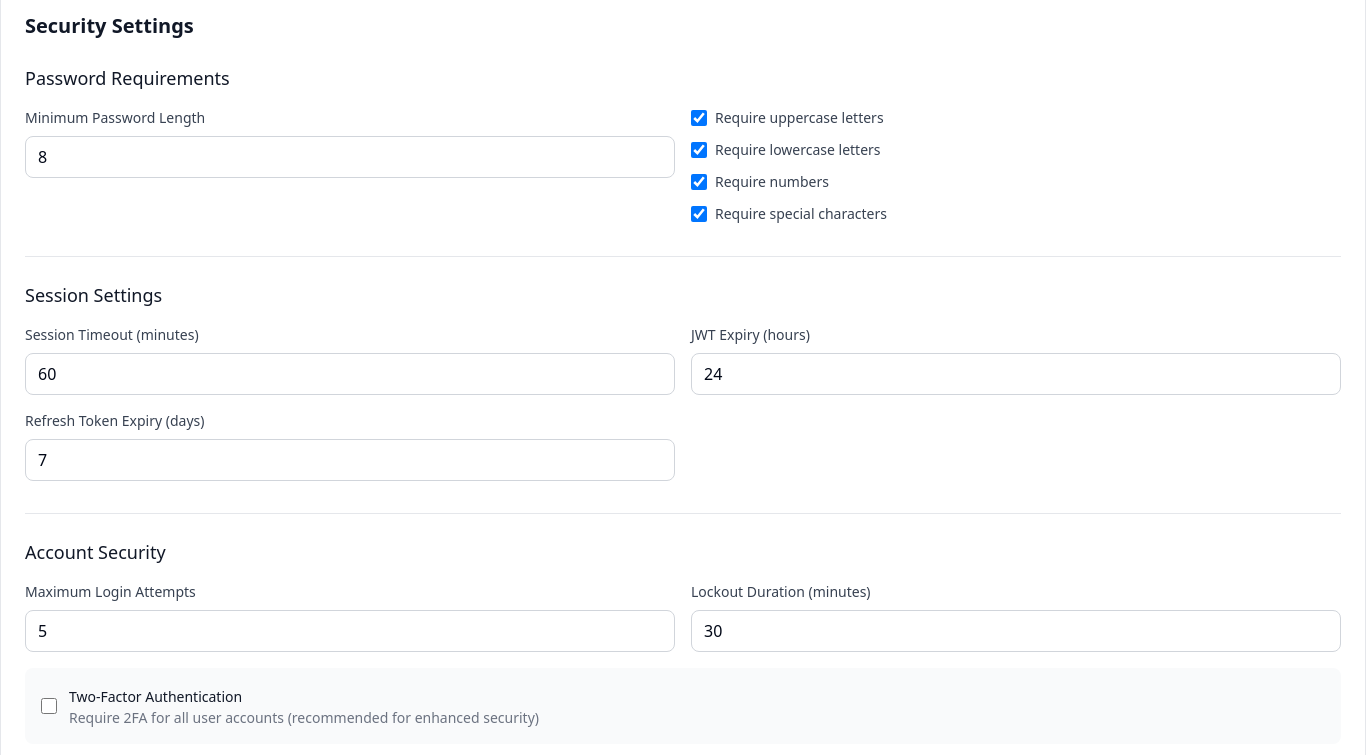
Scenario: SecuritySettings › validates session timeout range
Replace the text in the number field labelled "Session Timeout (minutes)" with "5" at {"x": 350, "y": 374}, box x1=25 y1=353 x2=675 y2=395
(page scrolled)
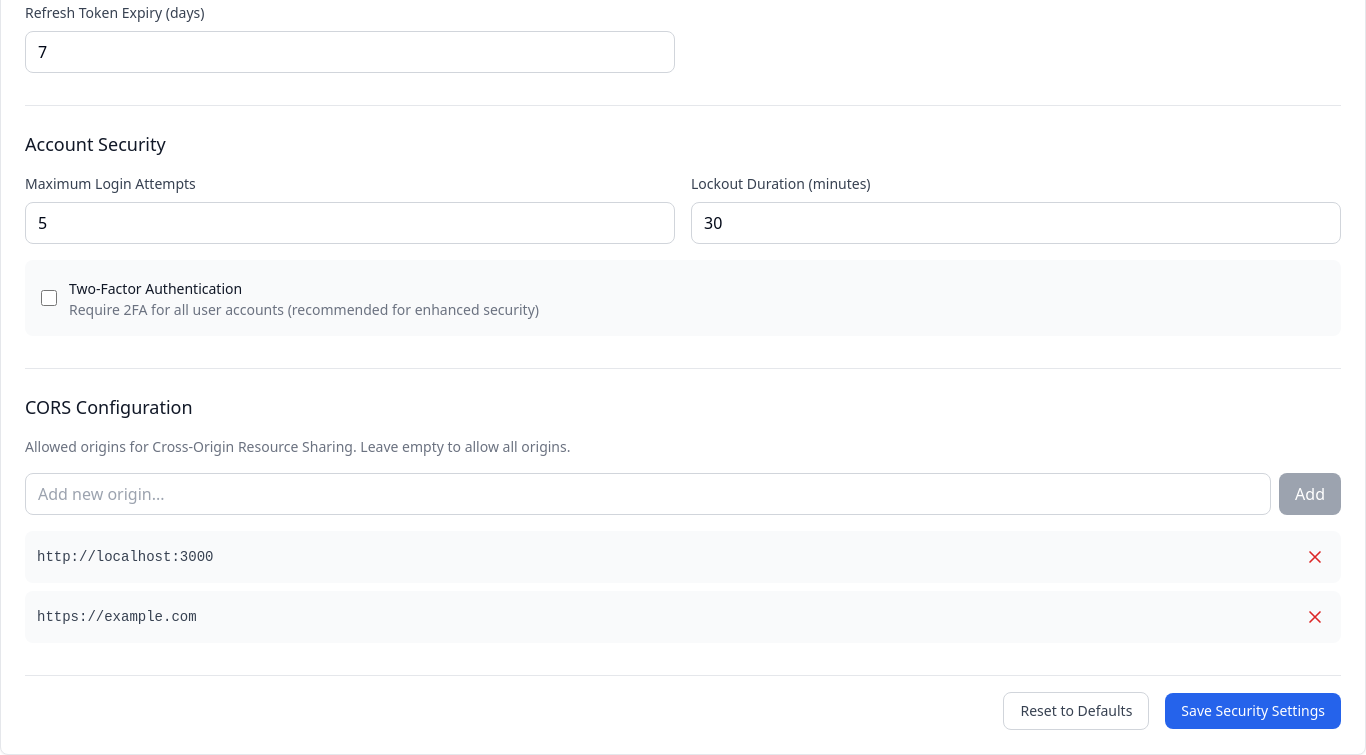
Click the button "Save Security Settings" at {"x": 1253, "y": 711}, box x1=1165 y1=693 x2=1341 y2=729
(page scrolled)
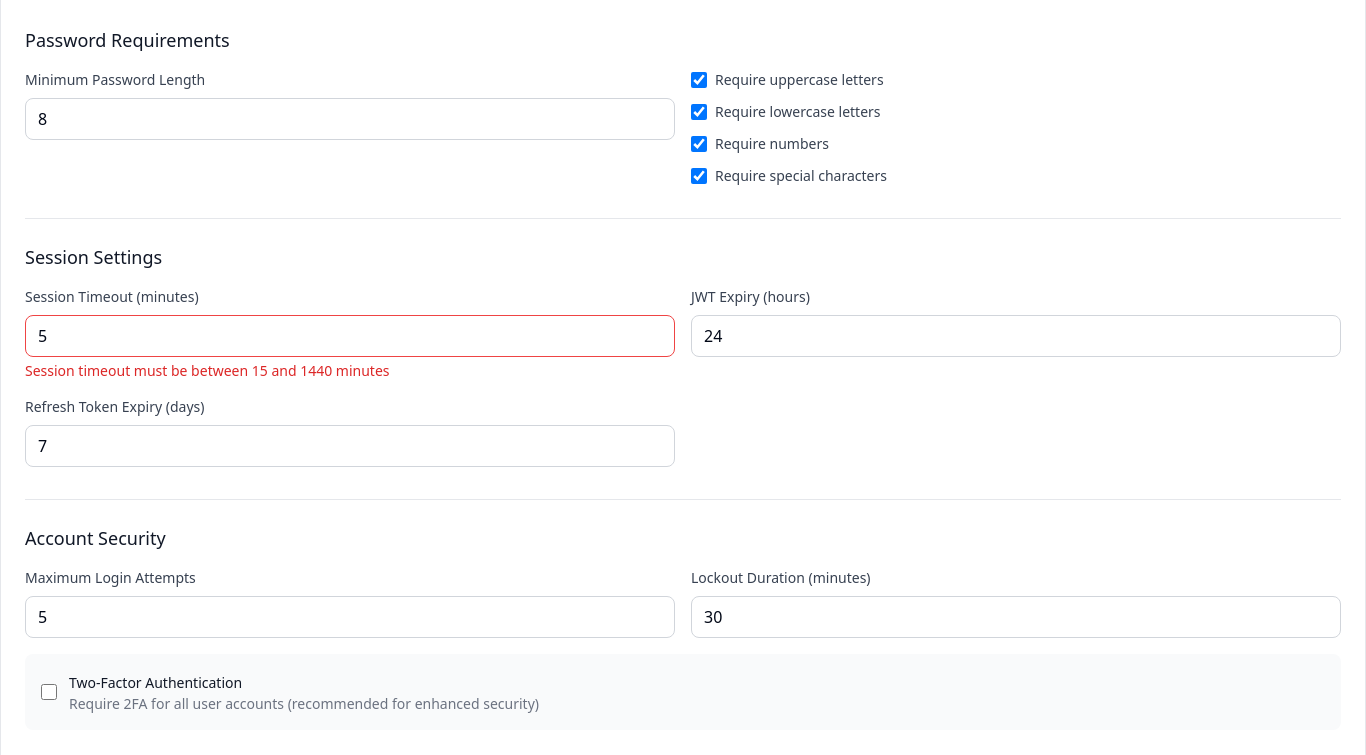
Expected: the text "Session timeout must be between 15 and 1440 minutes" is shown, x1=25 y1=361 x2=390 y2=380
